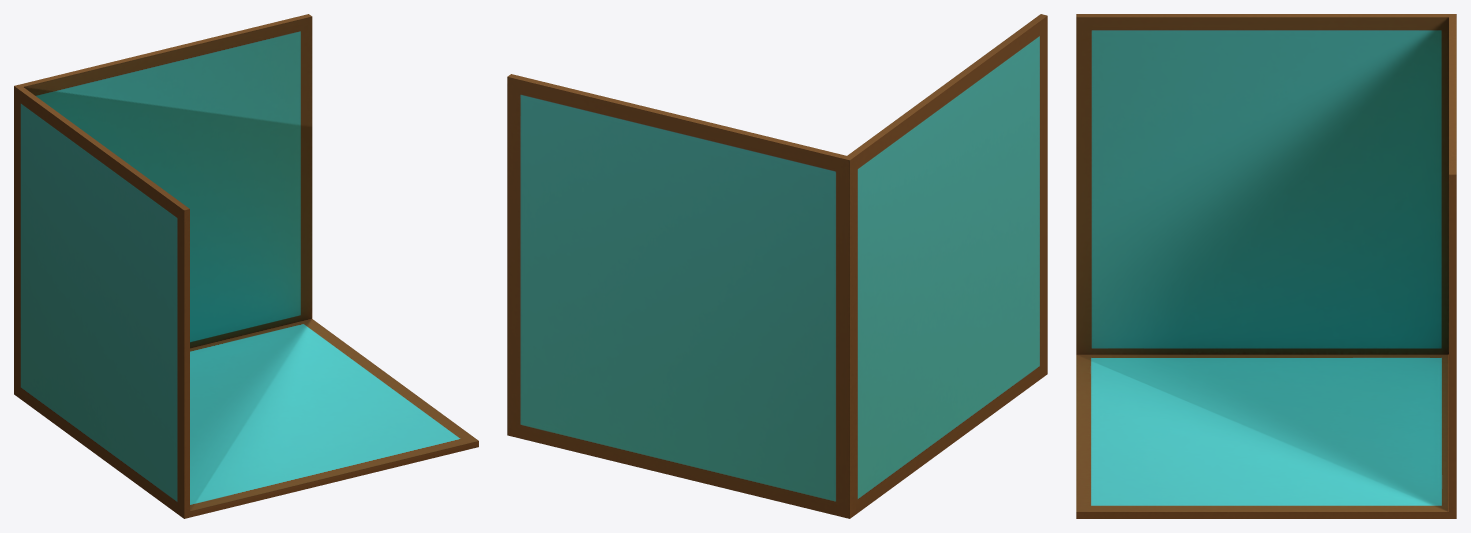
3 renders of one model, left to right at view 1: azimuth 30°, elevation 25°; view 2: azimuth 150°, elevation 25°; view 3: azimuth 270°, elevation 25°, orthographic. The views are drawn at different scales.
Parts seen in each view (by area): view 1: box2; view 2: box2; view 3: box2.
Part boxes in pixels (<box>): box2: <box>14,14,478,518</box>; box2: <box>507,14,1047,518</box>; box2: <box>1076,14,1456,518</box>.
Bounding box in the file's own units: 5 × 5 × 5.
Materials: 1 (1 with a texture image).
